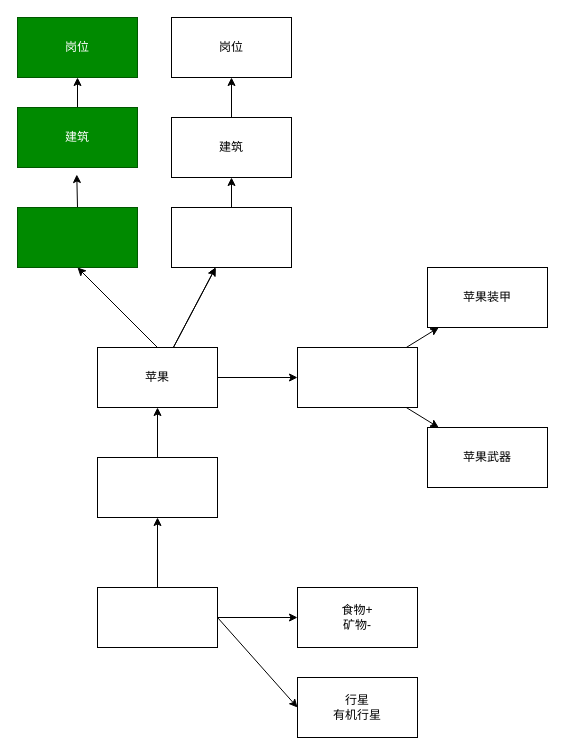
This 565x755 diagram has some shape labels left out. The shapes that lost their labels are listed below. From the top down, each one's centre as x and y in pixels, then its label:
At point 77,237: "苹果to矿物".
At point 231,237: "苹果to合金".
At point 357,377: "苹果部件".
At point 157,487: "大量苹果".
At point 157,617: "起源 有机之海".
